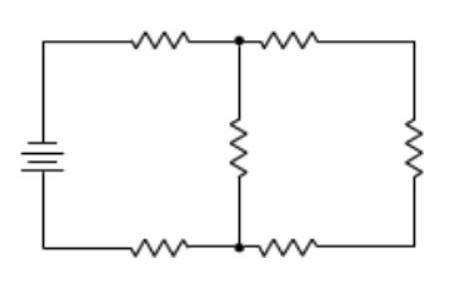Battery: (16, 115, 86, 195)
